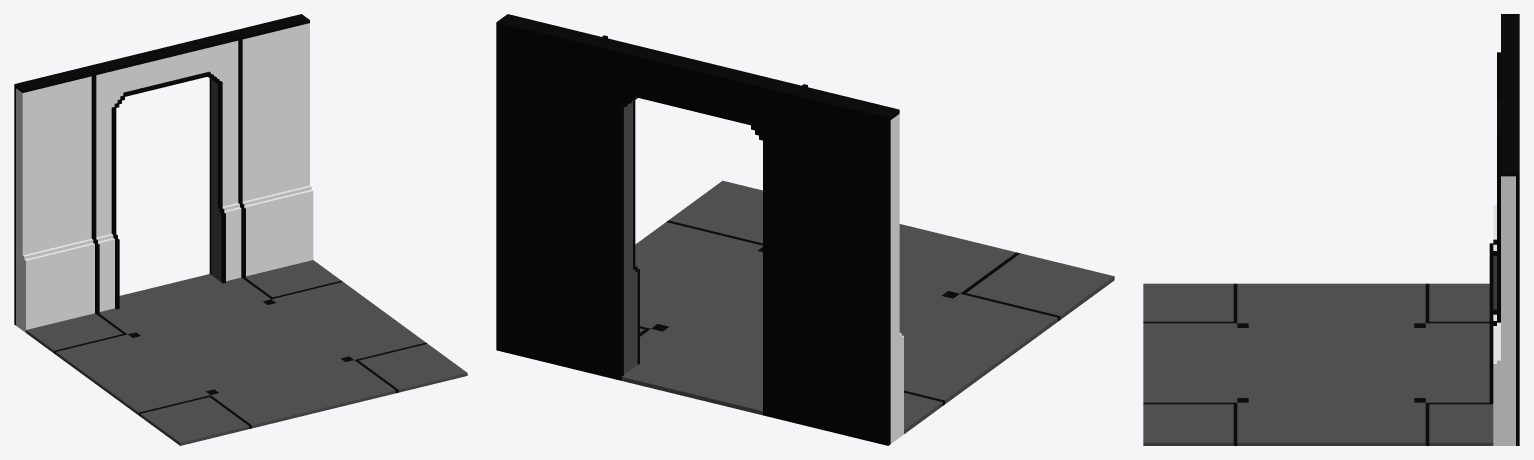
The model's file is Door.obj.
3 views of the same model, side by side, from view 1: azimuth 30°, elevation 25°; view 2: azimuth 150°, elevation 25°; view 3: azimuth 270°, elevation 25° (orthographic). The views are drawn at different scales.
Bounding box in the file's own units: 10 × 8 × 10.
